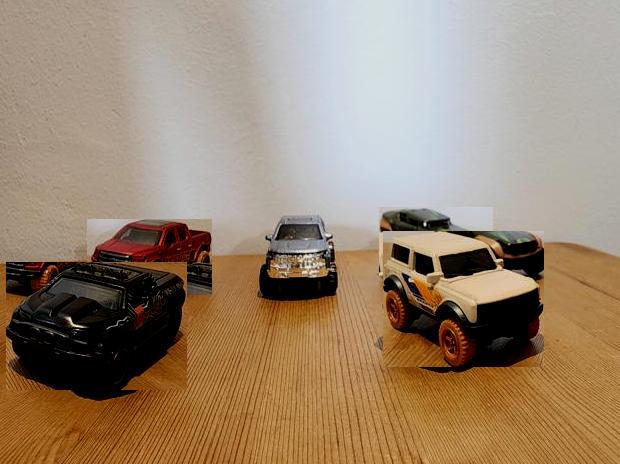toy-car: (5, 263, 186, 391), (382, 231, 543, 367), (87, 219, 212, 295), (379, 207, 493, 276), (259, 215, 338, 299)
